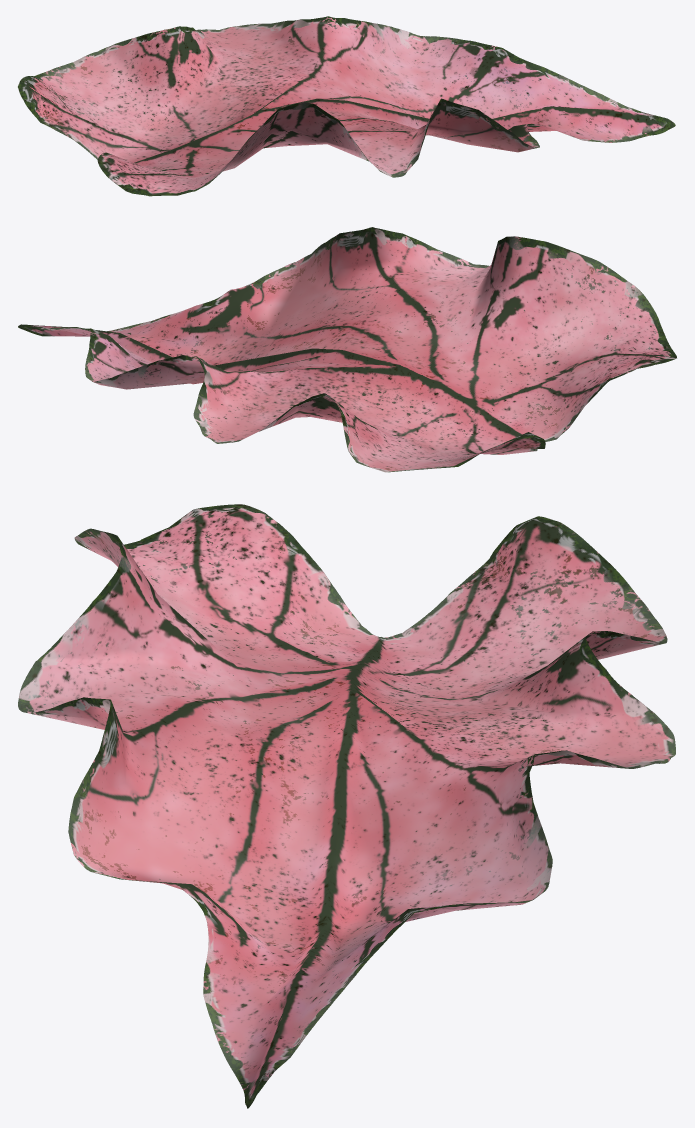
The model's file is exotic_plant.gltf.
3 views of the same model, one above another, from view 1: azimuth 30°, elevation 25°; view 2: azimuth 150°, elevation 25°; view 3: azimuth 270°, elevation 25° (orthographic). The views are drawn at different scales.
Visible parts, largest first — view 1: exotic_plant; view 2: exotic_plant; view 3: exotic_plant.
Part boxes in pixels (x1,y1,x2,y2): exotic_plant: [18, 16, 675, 196]; exotic_plant: [18, 227, 676, 472]; exotic_plant: [18, 504, 675, 1108].
Size of the model in its own units: 0.3756 by 0.0989 by 0.2364.
1 material, 1 textured.
